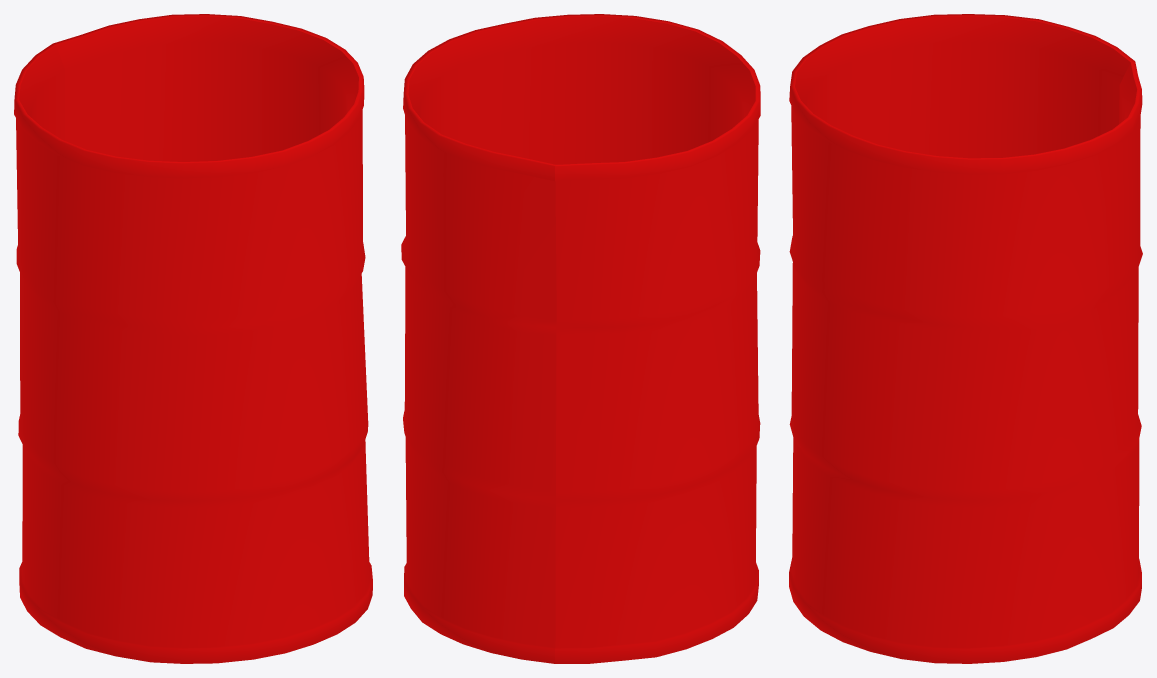
The model's file is SM_Barrel_02_Opened.glb.
3 views of the same model, side by side, from view 1: azimuth 30°, elevation 25°; view 2: azimuth 150°, elevation 25°; view 3: azimuth 270°, elevation 25° (orthographic).
Visible parts, largest first — view 1: SM_Barrel_02_Opened_LOD0; view 2: SM_Barrel_02_Opened_LOD0; view 3: SM_Barrel_02_Opened_LOD0.
Part boxes in pixels (left/top/right/bottom): SM_Barrel_02_Opened_LOD0: left=14, top=14, right=372, bottom=663; SM_Barrel_02_Opened_LOD0: left=401, top=14, right=760, bottom=663; SM_Barrel_02_Opened_LOD0: left=789, top=14, right=1142, bottom=663.
Bounding box in the file's own units: 0.4557 × 0.707 × 0.4501.
